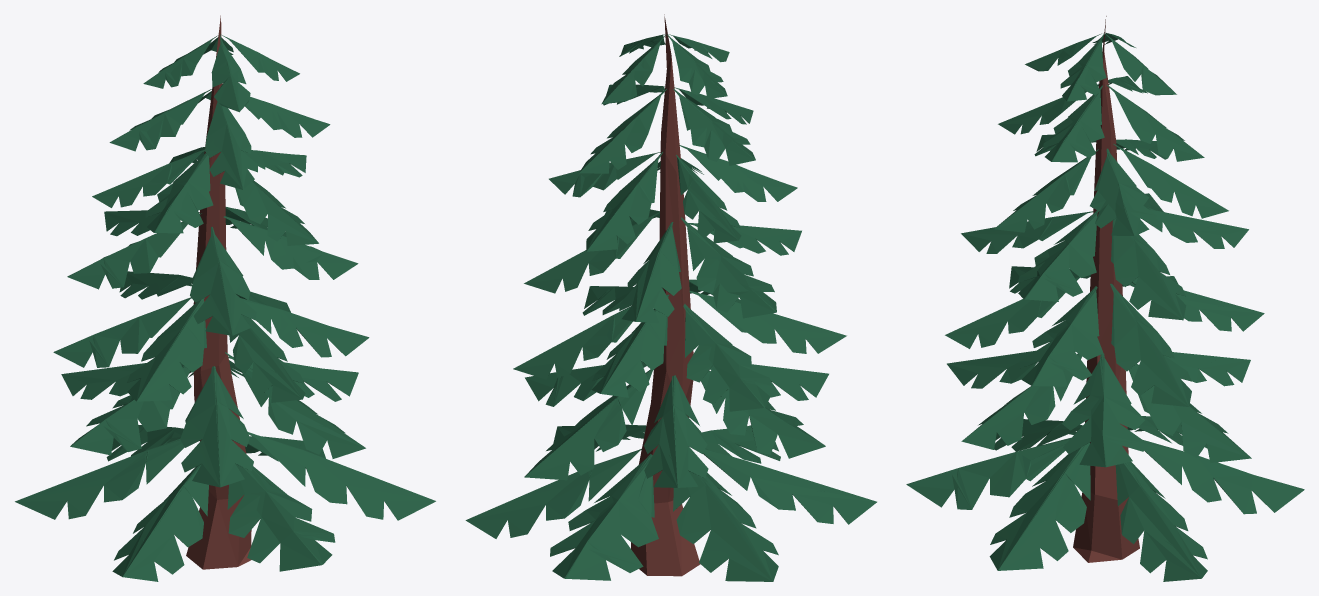
Rendered from Tree03.fbx.
3 views of the same model, side by side, from view 1: azimuth 30°, elevation 25°; view 2: azimuth 150°, elevation 25°; view 3: azimuth 270°, elevation 25° (orthographic). The views are drawn at different scales.
Visible parts, largest first — view 1: Tree_06; view 2: Tree_06; view 3: Tree_06.
Boxes of the visible parts, x1,y1,x2,y2 form: Tree_06: (15,15,435,581); Tree_06: (465,14,876,581); Tree_06: (906,16,1304,581).
Bounding box in the file's own units: 268 × 439 × 295.
